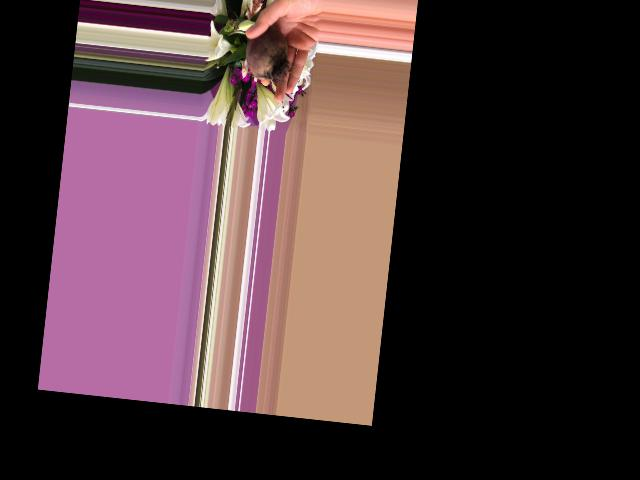beet: (222, 22, 291, 84)
